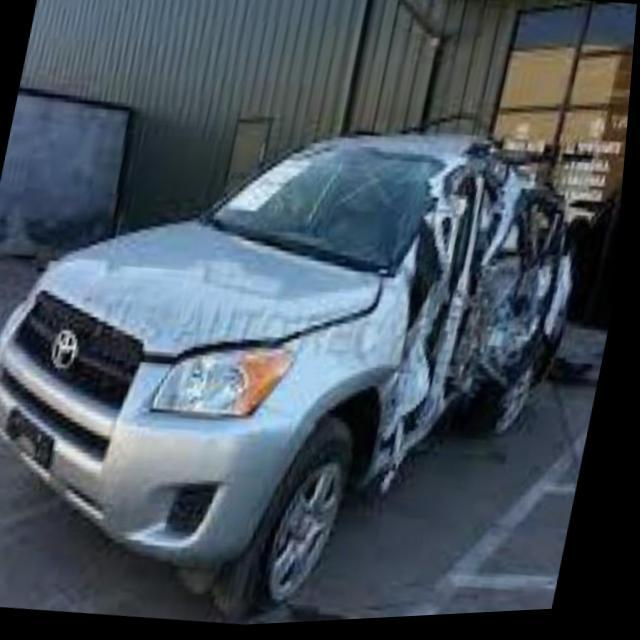crash: (377, 163, 583, 492)
